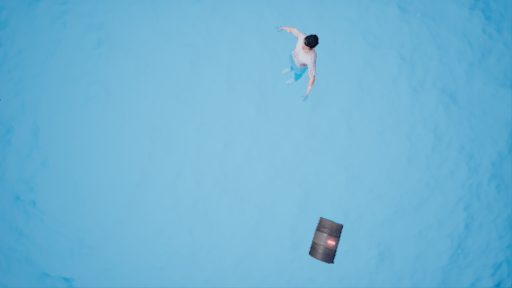person: (275, 24, 327, 100)
